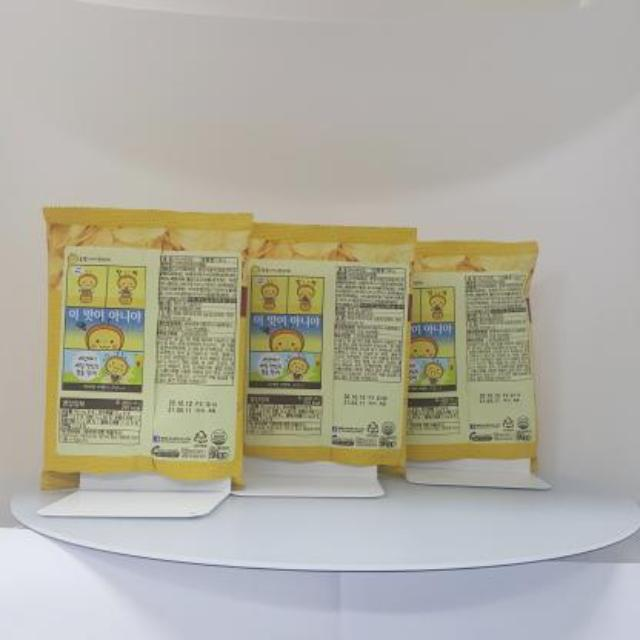snack_bag: (29, 190, 564, 520)
